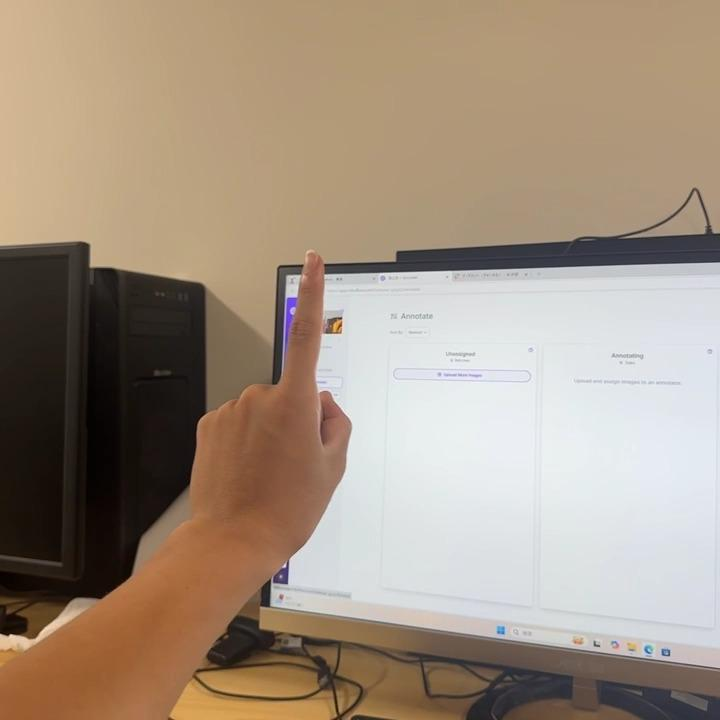without_gloves: (118, 182, 391, 596)
